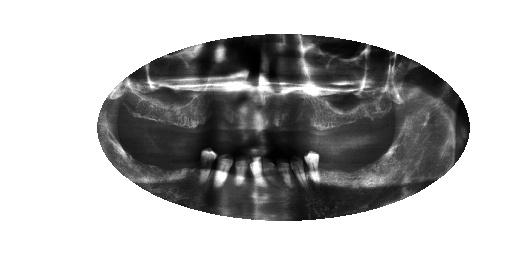Cavity: (199, 147, 218, 189), (215, 151, 235, 187), (289, 149, 307, 186), (277, 149, 291, 187), (263, 153, 277, 190), (235, 151, 248, 186)
